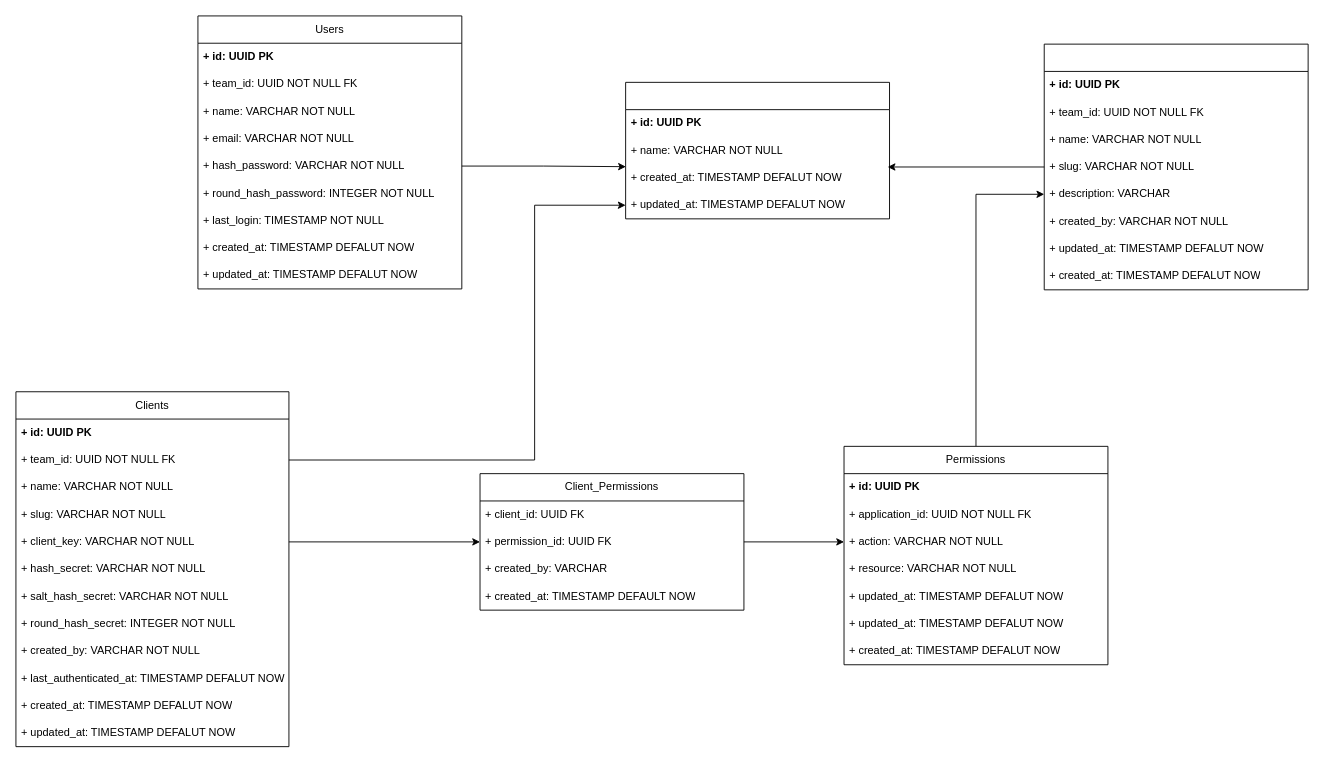
The diagram is 1324 pixels wide and 763 high, and some of its shapes have lost their labels. The box of each missing label's shape, as (x1, y1, x2, y2) in pixels:
Applications: (1043, 43, 1308, 290)
Teams: (625, 81, 890, 219)
